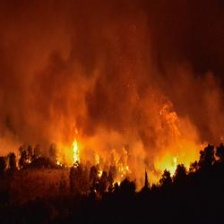fire: (62, 135, 199, 186)
smoke: (7, 8, 196, 129)
